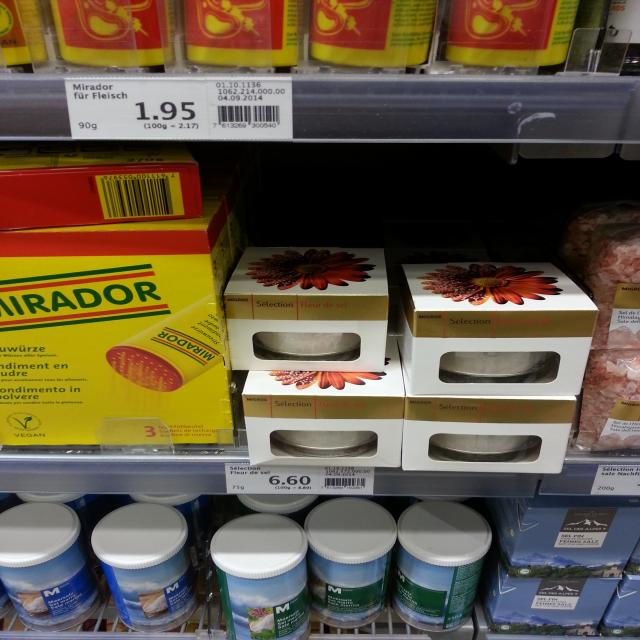Spices: (0, 196, 236, 446), (400, 260, 600, 396), (223, 248, 388, 372), (241, 373, 400, 467), (90, 502, 200, 630), (402, 396, 578, 474), (396, 500, 492, 634), (0, 500, 97, 630), (210, 513, 307, 640), (304, 498, 396, 630), (495, 496, 640, 576), (488, 577, 622, 636), (571, 351, 640, 455)
